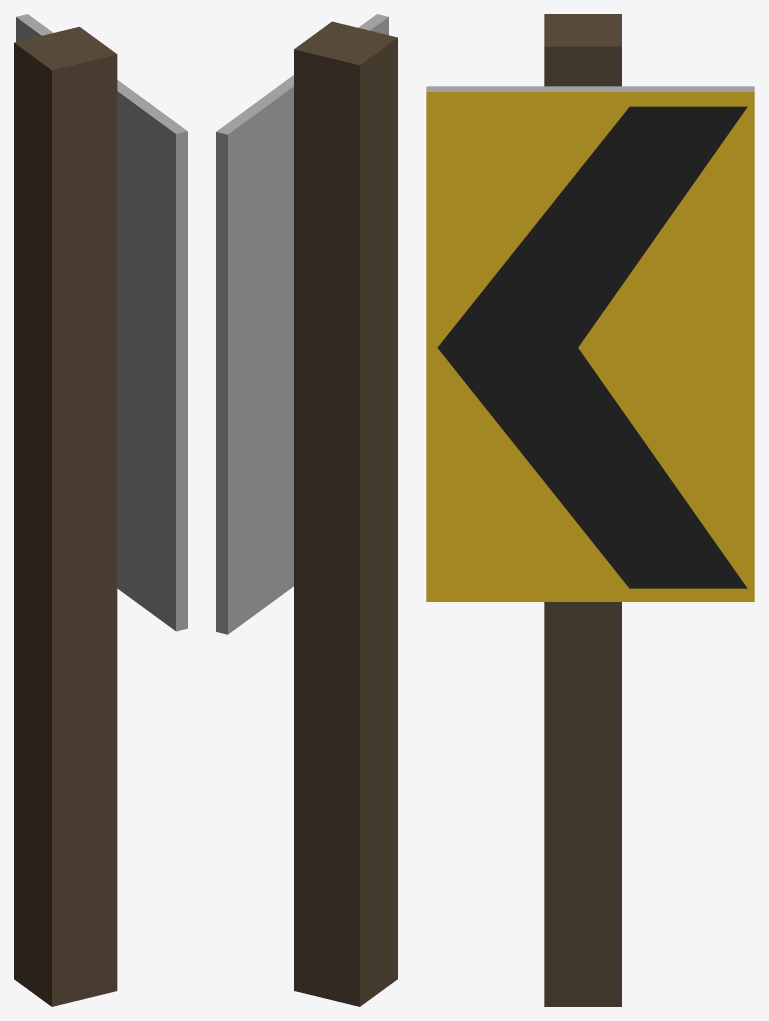
Rendered from SM_road_sign_9.gltf.
The picture shows the model from 3 angles, left to right: view 1: azimuth 30°, elevation 25°; view 2: azimuth 150°, elevation 25°; view 3: azimuth 270°, elevation 25°; orthographic projection. The views are drawn at different scales.
Parts seen in each view (by area): view 1: SM_road_sign_9; view 2: SM_road_sign_9; view 3: SM_road_sign_9.
Part boxes in pixels (x1,y1,x2,y2): SM_road_sign_9: (14,14,187,1006); SM_road_sign_9: (216,14,397,1006); SM_road_sign_9: (426,14,754,1006).
Bounding box in the file's own units: 0.1569 × 1.76 × 0.5446.
1 material, 1 textured.
